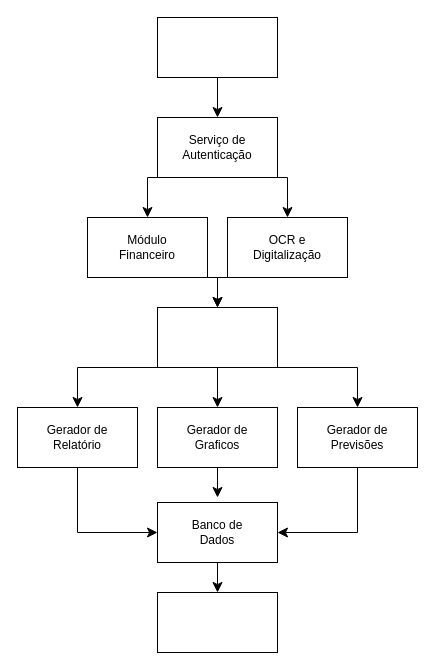
Image size: 435x670. Some labels were removed from this diagram. The shapes that lost their labels are listed below. From the top down, each one's box as (x1, y1, x2, y2) in pixels, then its label:
(156, 16, 278, 78): Interface Web
(156, 306, 278, 368): Gerador de Analise
(156, 592, 278, 652): Serviço de Notificação
